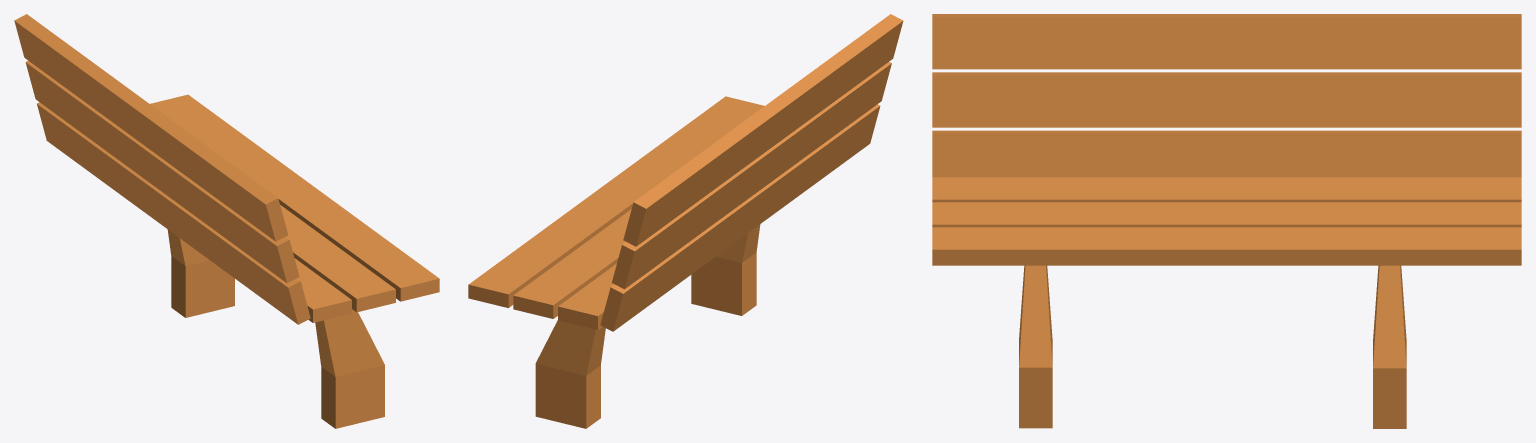
Rendered from bench.fbx.
3 renders of one model, left to right at view 1: azimuth 30°, elevation 25°; view 2: azimuth 150°, elevation 25°; view 3: azimuth 270°, elevation 25°, orthographic. The views are drawn at different scales.
Parts seen in each view (by area): view 1: Cube.002; view 2: Cube.002; view 3: Cube.002.
Boxes of the visible parts, x1,y1,x2,y2 form: Cube.002: (14,14,439,428); Cube.002: (468,14,903,428); Cube.002: (932,14,1521,428).
Size of the model in its own units: 141 by 218 by 354.
